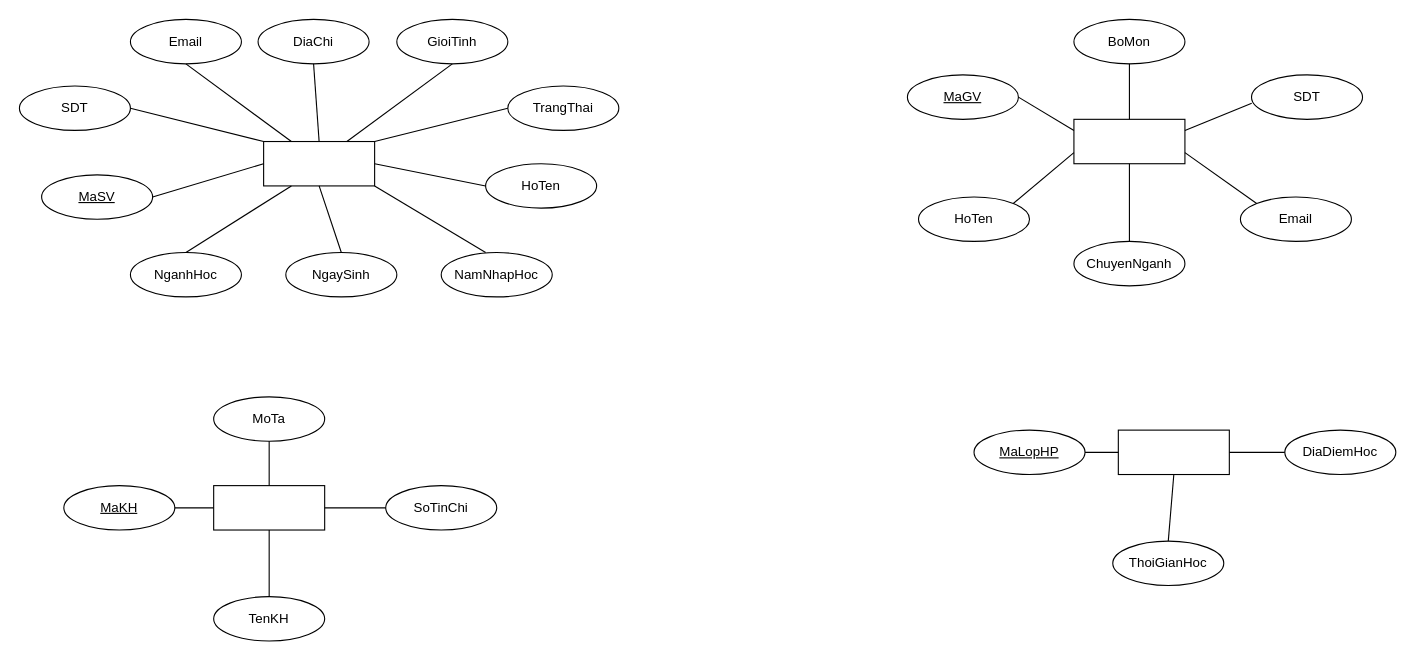
Some shapes in this 1415 by 660 pixel diagram are drawn without their labels. Each missing label, with the centre of its shape:
"GIANGVIEN" goes at [1129,141].
"KHOAHOC" goes at [269,507].
"LOPHOCPHAN" goes at [1173,452].
"SINHVIEN" goes at [319,163].
